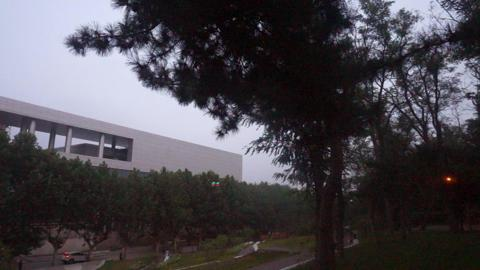UAV: (211, 182, 221, 187)
